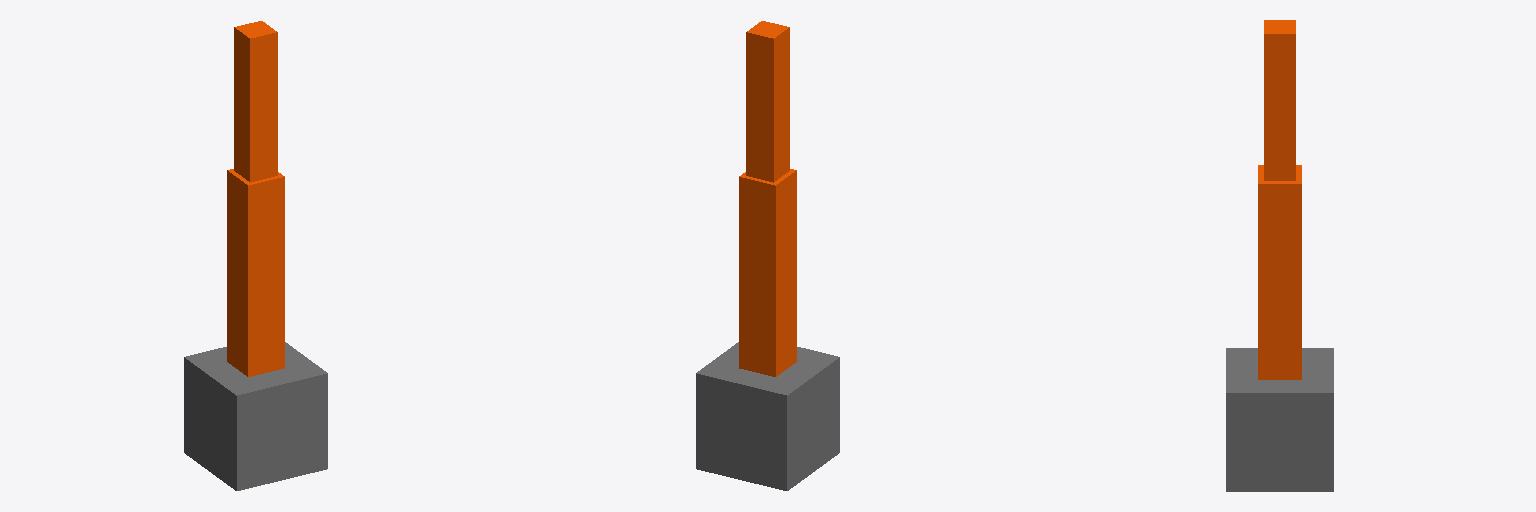
robot.urdf — twodof:
<?xml version="1.0" ?>
<robot name="twodof">
  <material name="grey">
    <color rgba="0.5 0.5 0.5 1"/>
  </material>
  <material name="orange">
    <color rgba="1 0.42 0.04 1"/>
  </material>
  <link name="base_link">
    <inertial>
      <origin xyz="0 0 0.05" rpy="0 0 0"/>
      <mass value="1.0"/>
      <inertia ixx="0.001666667" iyy="0.001666667" izz="0.001666667" ixy="0.0" iyz="0.0" ixz="0.0"/>
    </inertial>
    <visual>
      <origin xyz="0 0 0" rpy="0 0 0"/>
      <geometry>
        <mesh filename="meshes/base_link.stl" scale="0.001 0.001 0.001"/>
      </geometry>
      <material name="grey"/>
    </visual>
    <collision>
      <origin xyz="0 0 0" rpy="0 0 0"/>
      <geometry>
        <mesh filename="meshes/base_link.stl" scale="0.001 0.001 0.001"/>
      </geometry>
    </collision>
  </link>
  <link name="link1">
    <inertial>
      <origin xyz="0 0 0.1" rpy="0 0 0"/>
      <mass value="0.5"/>
      <inertia ixx="0.001733333" iyy="0.001733333" izz="0.000133333" ixy="0.0" iyz="0.0" ixz="0.0"/>
    </inertial>
    <visual>
      <origin xyz="0 0 -0.1" rpy="0 0 0"/>
      <geometry>
        <mesh filename="meshes/link1.stl" scale="0.001 0.001 0.001"/>
      </geometry>
      <material name="orange"/>
    </visual>
    <collision>
      <origin xyz="0 0 -0.1" rpy="0 0 0"/>
      <geometry>
        <mesh filename="meshes/link1.stl" scale="0.001 0.001 0.001"/>
      </geometry>
    </collision>
  </link>
  <link name="link2">
    <inertial>
      <origin xyz="0 0 0.075" rpy="0 0 0"/>
      <mass value="0.25"/>
      <inertia ixx="0.0004875" iyy="0.0004875" izz="3.75e-05" ixy="0.0" iyz="0.0" ixz="0.0"/>
    </inertial>
    <visual>
      <origin xyz="0 0 -0.3" rpy="0 0 0"/>
      <geometry>
        <mesh filename="meshes/link2.stl" scale="0.001 0.001 0.001"/>
      </geometry>
      <material name="orange"/>
    </visual>
    <collision>
      <origin xyz="0 0 -0.3" rpy="0 0 0"/>
      <geometry>
        <mesh filename="meshes/link2.stl" scale="0.001 0.001 0.001"/>
      </geometry>
    </collision>
  </link>
  <joint name="joint1" type="revolute">
    <origin xyz="0 0 0.1" rpy="0 0 0"/>
    <parent link="base_link"/>
    <child link="link1"/>
    <axis xyz="0 0 1"/>
    <limit lower="-3.141593" upper="3.141593" effort="100.0" velocity="100.0"/>
  </joint>
  <joint name="joint2" type="revolute">
    <origin xyz="0 0 0.2" rpy="0 0 0"/>
    <parent link="link1"/>
    <child link="link2"/>
    <axis xyz="0 1 0"/>
    <limit lower="-1.570796" upper="1.570796" effort="100.0" velocity="100.0"/>
  </joint>
</robot>

--- Render facts (derived) ---
3 views of the same robot in one strip: view 1: azimuth 30°, elevation 25°; view 2: azimuth 150°, elevation 25°; view 3: azimuth 270°, elevation 25° (orthographic).
Robot: twodof — 3 links, 2 joints (2 revolute); root link base_link; default pose: every joint at zero.
Visible links, largest first — view 1: base_link, link1, link2; view 2: base_link, link1, link2; view 3: base_link, link1, link2.
Link boxes in pixels (<box>): base_link: <box>184,342,327,490</box>; link1: <box>227,169,284,376</box>; link2: <box>234,21,277,182</box>; base_link: <box>696,342,839,490</box>; link1: <box>739,169,796,376</box>; link2: <box>746,21,789,182</box>; base_link: <box>1226,348,1333,491</box>; link1: <box>1258,165,1301,379</box>; link2: <box>1264,20,1295,180</box>.
Bounding box of the posed robot: 0.1 × 0.1 × 0.45 m (x, y, z).
Meshes: 3 distinct files referenced, 3 mesh visuals loaded (3 binary STL).
